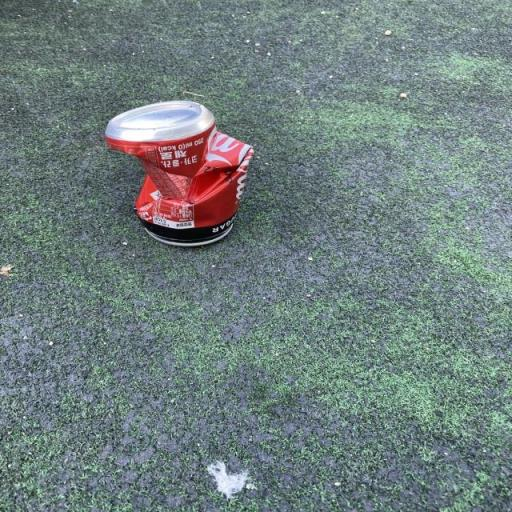metal: (95, 73, 272, 283)
